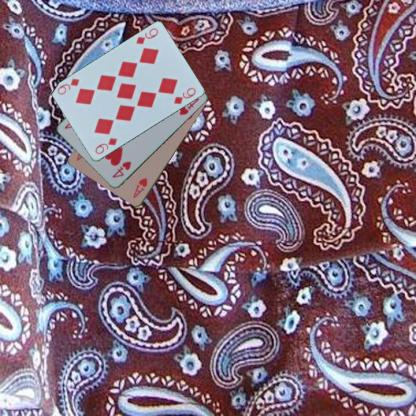4h: (110, 159, 132, 179)
9d: (92, 135, 118, 156), (134, 26, 160, 46)
Ah: (130, 176, 148, 200)
